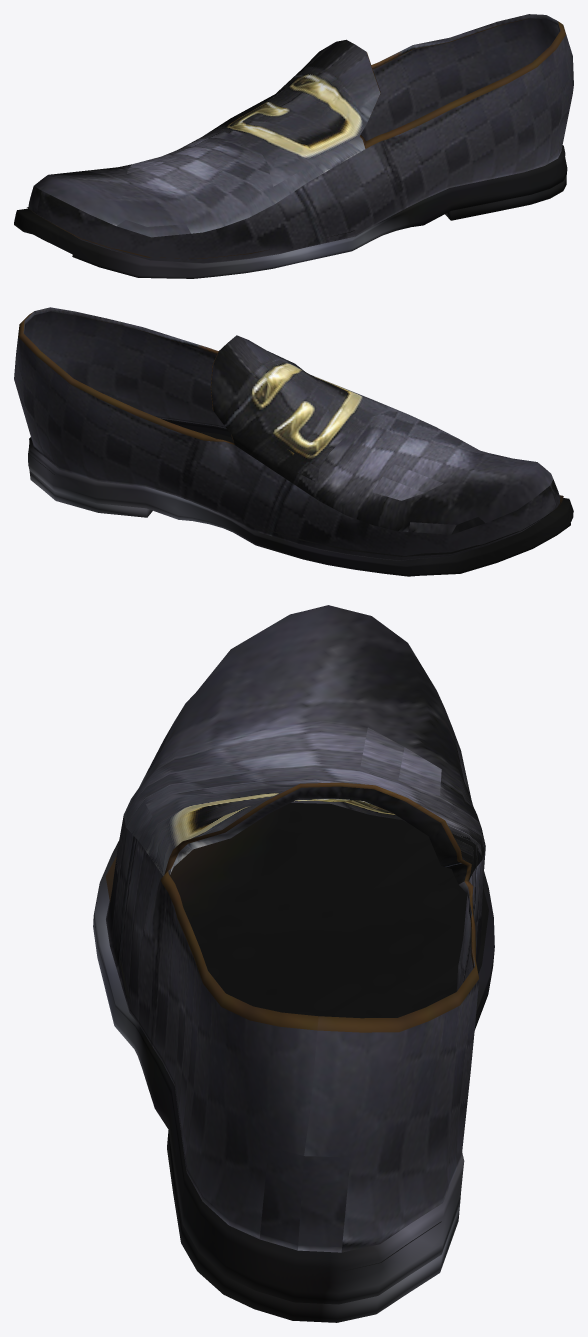
File: tsinelas_loafers.glb
The picture shows the model from 3 angles, top to bottom: view 1: azimuth 30°, elevation 25°; view 2: azimuth 150°, elevation 25°; view 3: azimuth 270°, elevation 25°; orthographic projection. The views are drawn at different scales.
Visible parts, largest first — view 1: tsinelas_loafers; view 2: tsinelas_loafers; view 3: tsinelas_loafers.
Part boxes in pixels (x1,y1,x2,y2): tsinelas_loafers: (14, 14, 573, 278); tsinelas_loafers: (14, 307, 573, 576); tsinelas_loafers: (93, 605, 494, 1322).
Size of the model in its own units: 0.432 by 0.1321 by 0.1375.
Materials: 1 (1 with a texture image).
